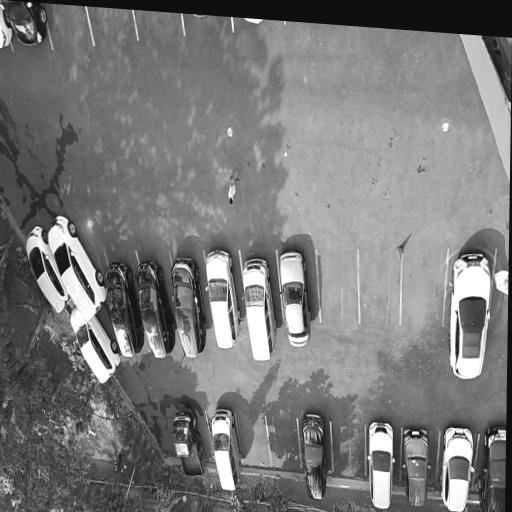Car: (44, 213, 109, 323), (445, 255, 494, 388), (133, 258, 181, 365), (66, 306, 123, 394), (21, 223, 72, 319), (167, 254, 211, 365), (103, 260, 148, 362), (240, 258, 281, 366), (203, 249, 244, 355), (277, 247, 314, 355), (436, 425, 478, 512), (210, 407, 245, 496), (366, 417, 397, 512), (172, 407, 208, 485), (475, 425, 506, 512), (0, 0, 51, 49), (300, 413, 328, 502), (403, 424, 431, 512)
Space Available: (402, 250, 447, 325), (359, 249, 402, 325), (317, 249, 359, 325), (42, 3, 94, 51), (87, 7, 138, 46), (331, 422, 366, 477), (266, 417, 301, 469), (237, 413, 271, 466), (134, 10, 184, 43), (489, 251, 509, 322)
